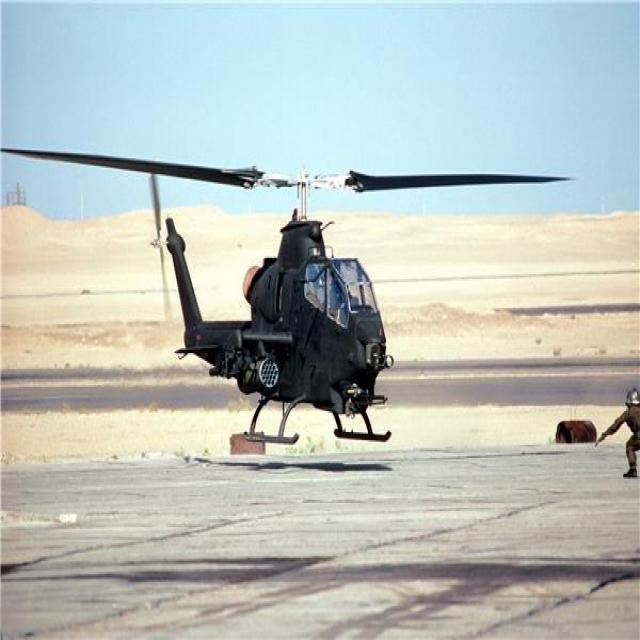MIL_HELO: (8, 90, 584, 450)
